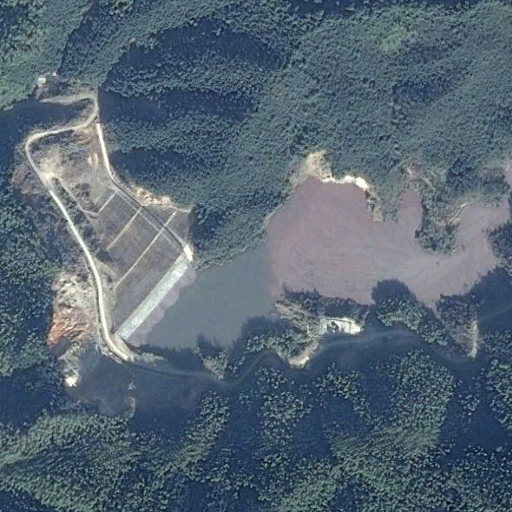tp: (86, 174, 510, 379)
